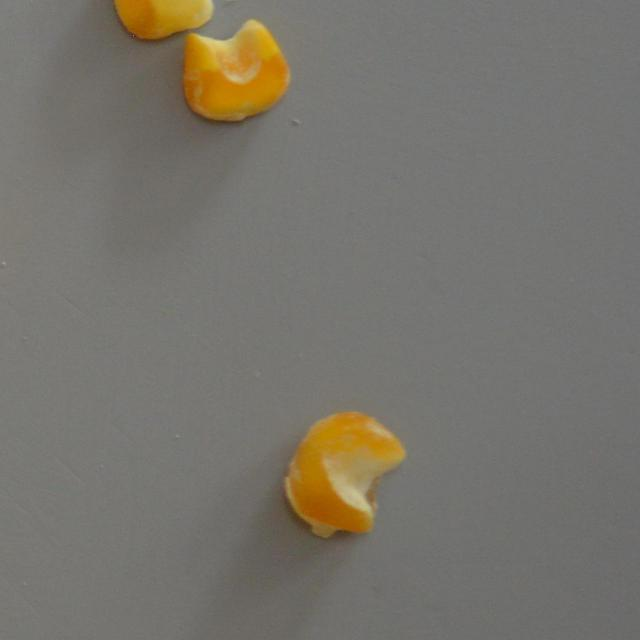no_canjicado: (110, 0, 214, 38)
pelicula: (282, 410, 406, 538), (180, 19, 290, 120)
